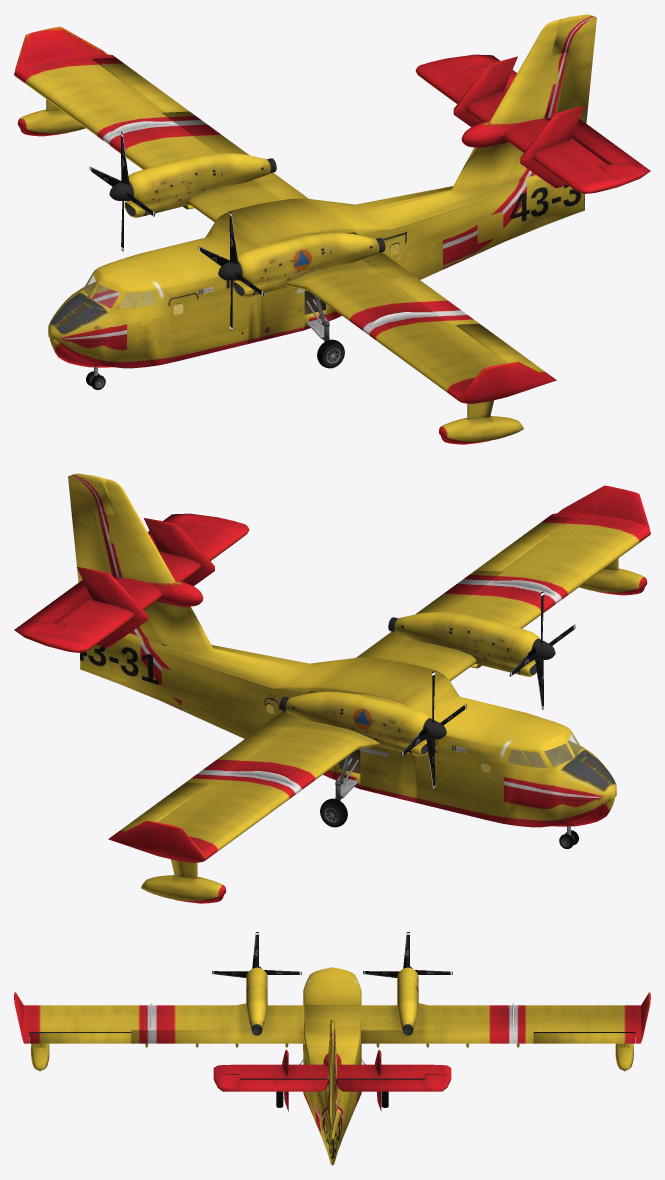
3 views of the same model, one above another, from view 1: azimuth 30°, elevation 25°; view 2: azimuth 150°, elevation 25°; view 3: azimuth 270°, elevation 25° (orthographic). The views are drawn at different scales.
Parts seen in each view (by area): view 1: fuselage, ailes, moteurs, derive, derive2, direction, profondeur, flotteurG, voletG, voletD, aileronD, flotteurD (+8 smaller); view 2: fuselage, ailes, moteurs, derive, derive2, direction, profondeur, flotteurD, voletD, voletG, aileronG, flotteurG (+7 smaller); view 3: ailes, fuselage, derive, profondeur, voletD, voletG, moteurs, aileronD, aileronG, trous, heliceG, heliceD (+4 smaller).
Part boxes in pixels (x1,y1,x2,y2): fuselage: (48,20,584,368); ailes: (14,26,556,403); moteurs: (124,153,379,297); derive: (415,58,617,193); derive2: (453,56,584,188); direction: (551,14,596,123); profondeur: (448,54,650,187); flotteurG: (439,400,523,444); voletG: (346,232,478,325); voletD: (162,111,308,200); aileronD: (93,57,189,112); flotteurD: (17,99,85,136); fuselage: (80,479,616,827); ailes: (108,485,650,862); moteurs: (285,612,540,756); derive: (47,517,249,652); derive2: (77,518,214,647); direction: (68,473,113,582); profondeur: (14,513,216,646); flotteurD: (141,859,226,903); voletD: (186,691,318,784); voletG: (356,570,502,659); aileronG: (475,516,571,571); flotteurG: (579,558,647,595); ailes: (14,992,650,1043); fuselage: (303,967,361,1165); derive: (213,1064,451,1078); profondeur: (213,1074,451,1091); voletD: (361,1030,533,1047); voletG: (131,1030,303,1047); moteurs: (246,967,418,1030); aileronD: (533,1033,635,1043); aileronG: (29,1033,131,1043); trous: (29,1020,635,1130); heliceG: (212,932,301,977); heliceD: (363,932,452,977).
Size of the model in its own units: 19.8 by 8.82 by 28.79.
3 materials, 1 textured.
